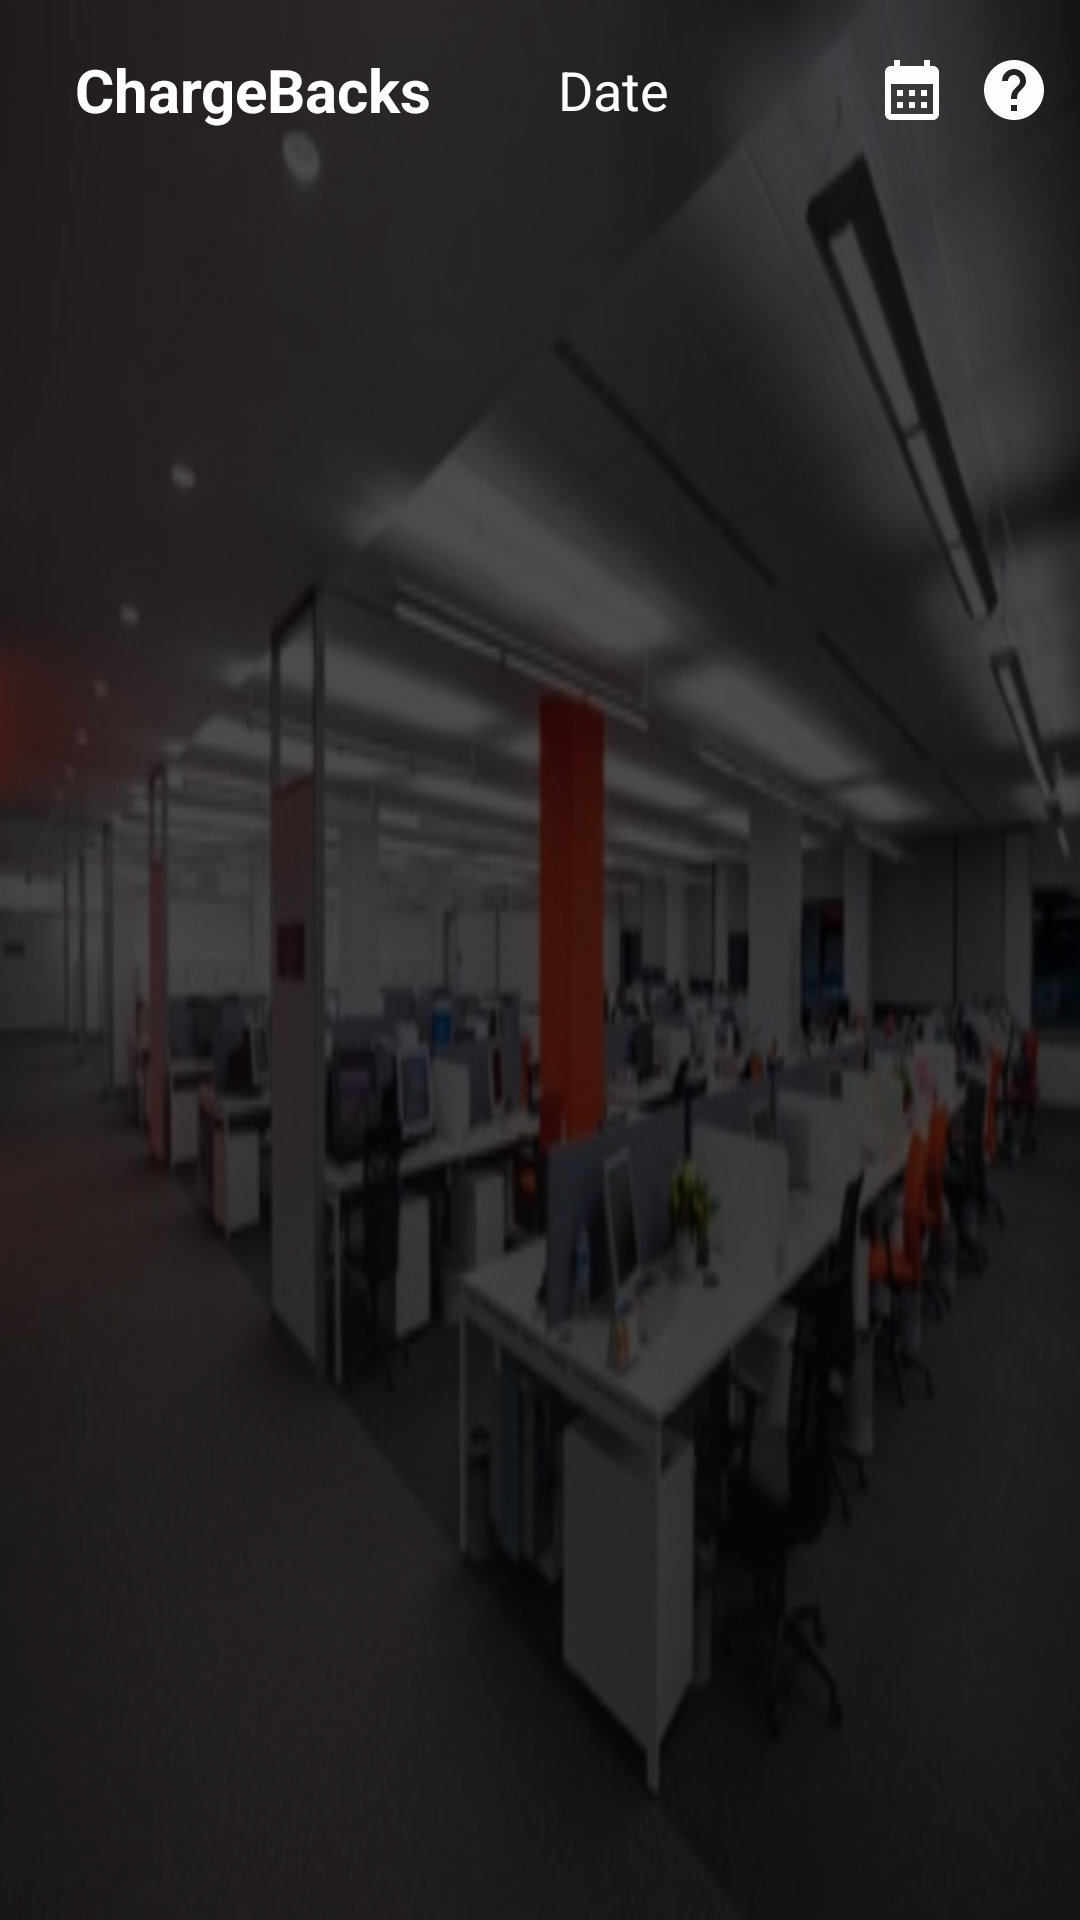

Icon bounding boxes for this 1080 x 1920 phone screenshot, format (x1=x1, y1=y1, x2=x2, y2=y2):
help: (x1=984, y1=60, x2=1044, y2=120)
